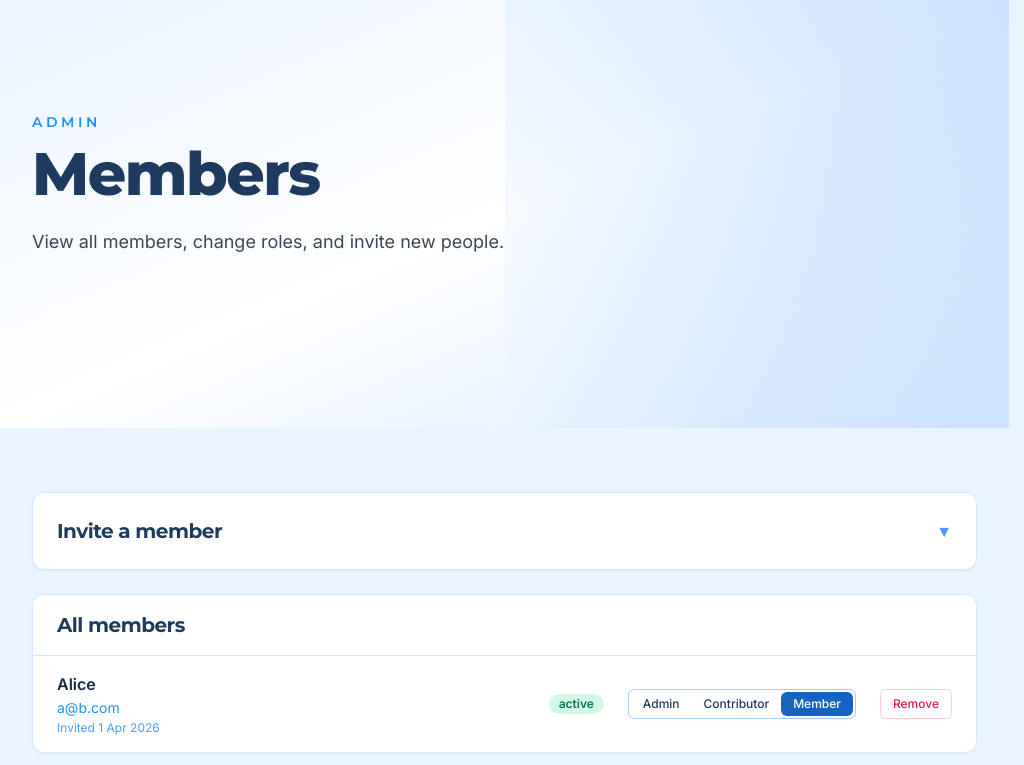
Test: MemberManagementView › dismisses a save error by clicking Dismiss
Click the button "Admin". click: (661, 704)
box: [631,692,692,716]
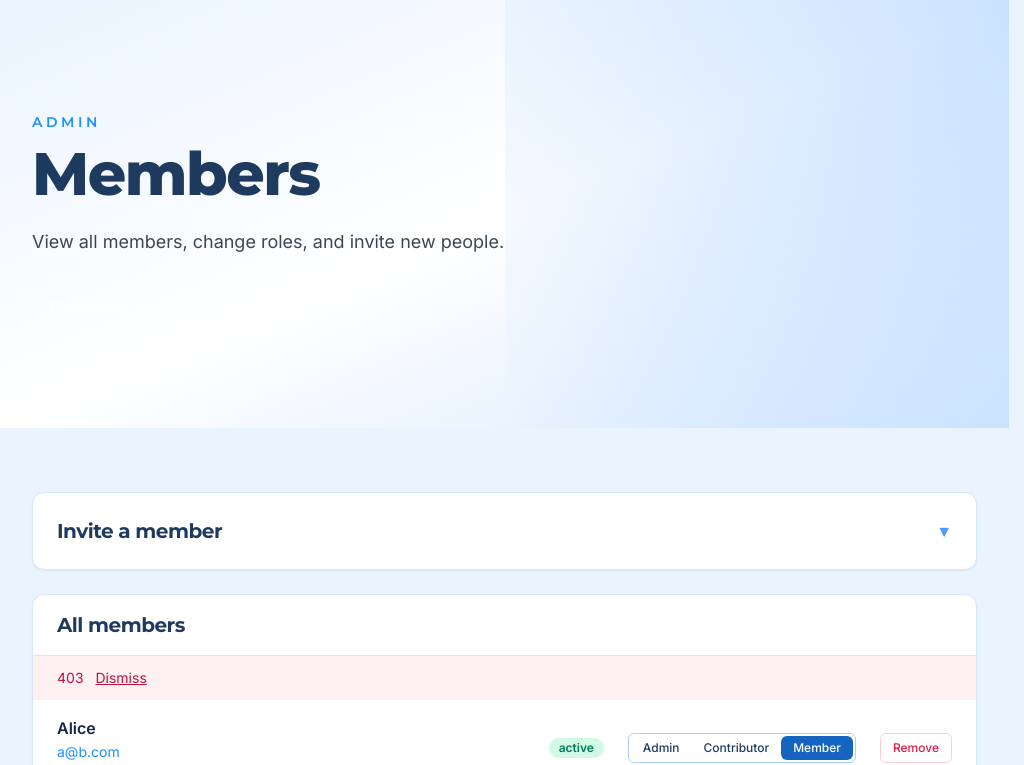
Check: the text "403" is shown, box [57,669,88,686]
Click the button "Dismiss". click: (121, 678)
box: [96,668,147,688]
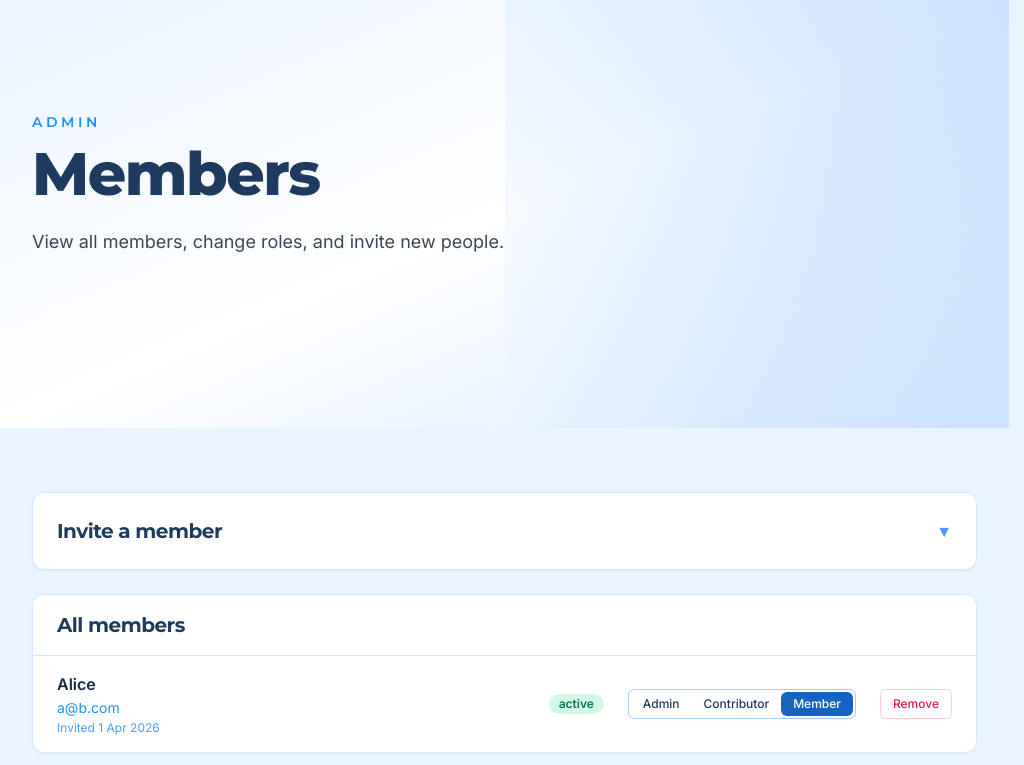
Check: the text "403" is gone
